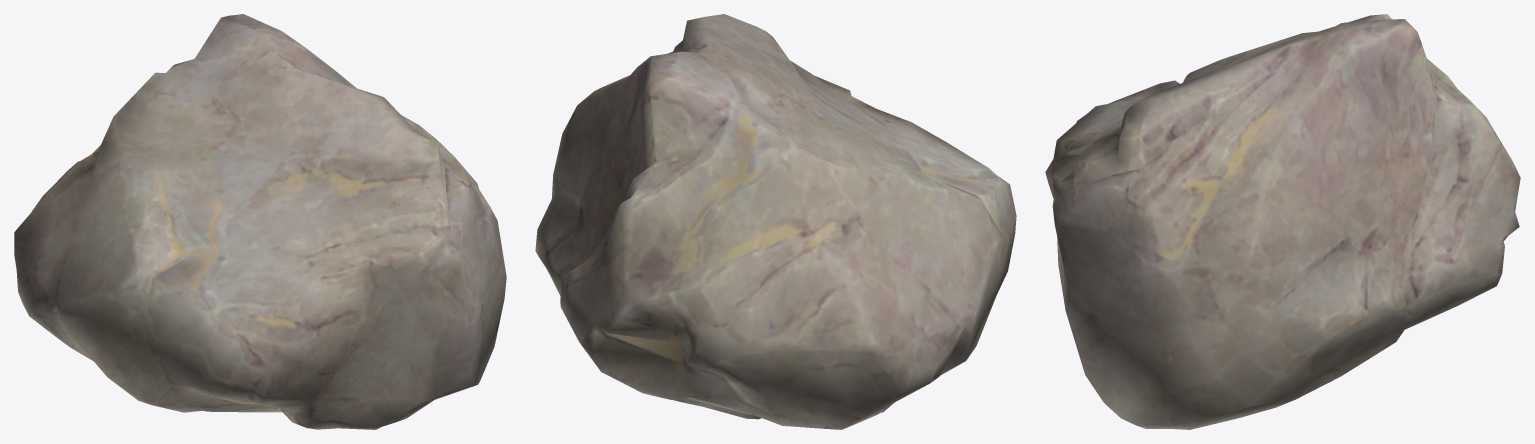
Rendered from Homeworld_Exterior_Common_Stone_Stone_05_Lod0.fbx.
3 renders of one model, left to right at view 1: azimuth 30°, elevation 25°; view 2: azimuth 150°, elevation 25°; view 3: azimuth 270°, elevation 25°, orthographic. The views are drawn at different scales.
Parts seen in each view (by area): view 1: Area_Ly_Rock_HZ_River_01_Lod0; view 2: Area_Ly_Rock_HZ_River_01_Lod0; view 3: Area_Ly_Rock_HZ_River_01_Lod0.
Part boxes in pixels (box(x1,y1,x2,y2)): Area_Ly_Rock_HZ_River_01_Lod0: box(14, 14, 506, 429); Area_Ly_Rock_HZ_River_01_Lod0: box(535, 14, 1016, 429); Area_Ly_Rock_HZ_River_01_Lod0: box(1045, 14, 1520, 429).
Bounding box in the file's own units: 7.08 × 5.51 × 6.62.
Materials: 1 (1 with a texture image).
